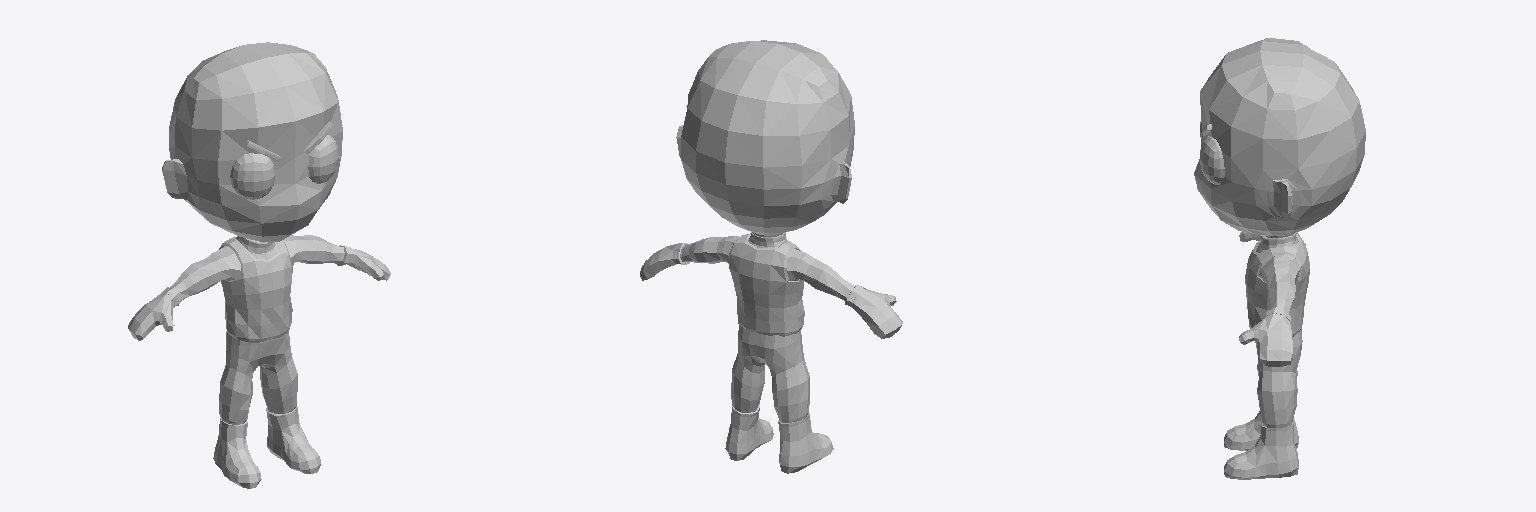
Rendered from Guardia_Interior_Sin Boina_low.obj.
The picture shows the model from 3 angles: view 1: azimuth 30°, elevation 25°; view 2: azimuth 150°, elevation 25°; view 3: azimuth 270°, elevation 25°; orthographic projection.
Visible parts, largest first — view 1: Guardia_Exterior_Mascara_low:Group62273 Guardia_Exterior_Mascara, Guardia_Exterior_Mascara_low:polySurface2 Guardia_Exterior_Masca; view 2: Guardia_Exterior_Mascara_low:Group62273 Guardia_Exterior_Mascara; view 3: Guardia_Exterior_Mascara_low:Group62273 Guardia_Exterior_Mascara, Guardia_Exterior_Mascara_low:polySurface2 Guardia_Exterior_Masca.
Boxes of the visible parts, box(x1,y1,x2,y2) form: Guardia_Exterior_Mascara_low:Group62273 Guardia_Exterior_Mascara: box(128, 42, 390, 488); Guardia_Exterior_Mascara_low:polySurface2 Guardia_Exterior_Masca: box(230, 135, 338, 199); Guardia_Exterior_Mascara_low:Group62273 Guardia_Exterior_Mascara: box(640, 40, 902, 473); Guardia_Exterior_Mascara_low:Group62273 Guardia_Exterior_Mascara: box(1194, 38, 1365, 479); Guardia_Exterior_Mascara_low:polySurface2 Guardia_Exterior_Masca: box(1200, 122, 1224, 184).
Bounding box in the file's own units: 3.98 × 6.1 × 2.32.